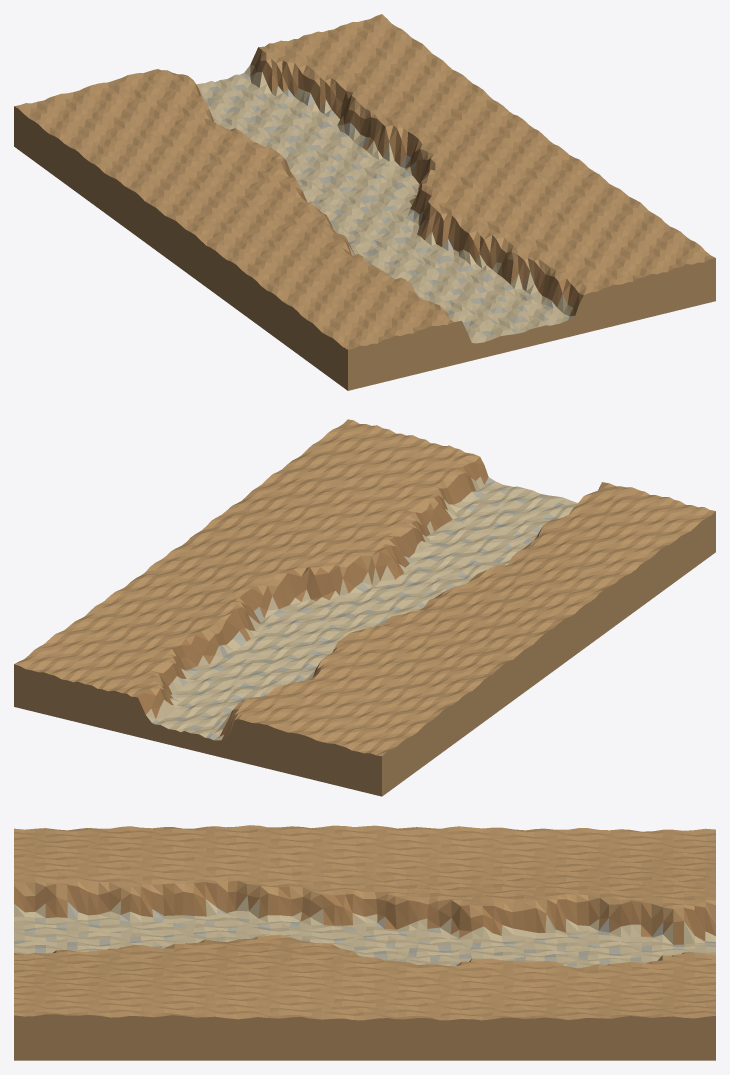
3 renders of one model, top to bottom at view 1: azimuth 30°, elevation 25°; view 2: azimuth 150°, elevation 25°; view 3: azimuth 270°, elevation 25°, orthographic. The views are drawn at different scales.
Parts seen in each view (by area): view 1: coherent_dry_shallow_sinuous_incised_arroyo_wash_low_unequal; view 2: coherent_dry_shallow_sinuous_incised_arroyo_wash_low_unequal; view 3: coherent_dry_shallow_sinuous_incised_arroyo_wash_low_unequal.
Boxes of the visible parts, x1,y1,x2,y2 form: coherent_dry_shallow_sinuous_incised_arroyo_wash_low_unequal: (14,14,715,390); coherent_dry_shallow_sinuous_incised_arroyo_wash_low_unequal: (14,419,715,796); coherent_dry_shallow_sinuous_incised_arroyo_wash_low_unequal: (14,825,715,1060).
Size of the model in its own units: 14 by 1.62 by 22.
